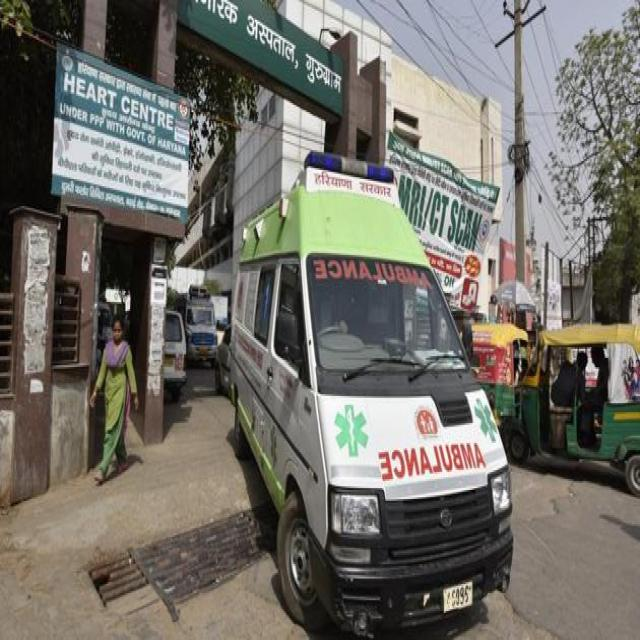autorickshaw: (501, 325, 640, 495), (473, 323, 527, 416)
emergency: (231, 153, 513, 634)
